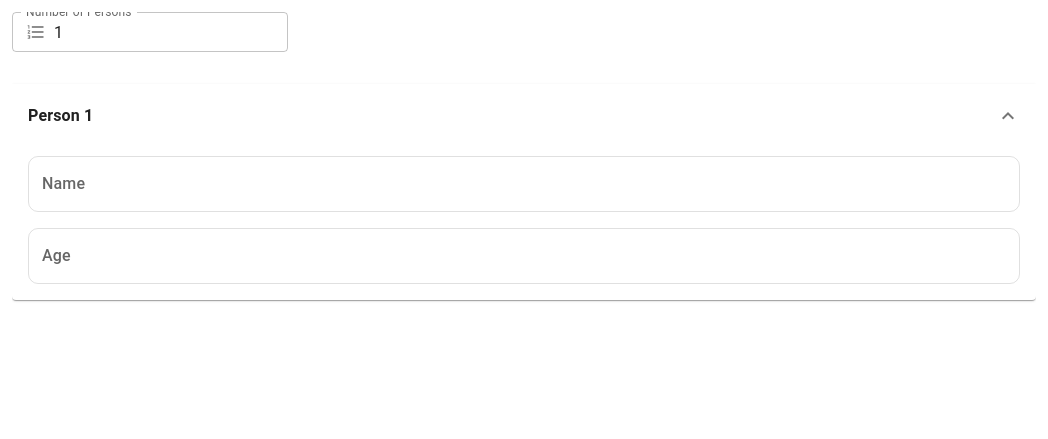
Test: FormRepeater › adds groups when count input is increased
Replace the text in the number field labelled "Number of Persons" with "3" at (171, 32), box [54,12,288,52]
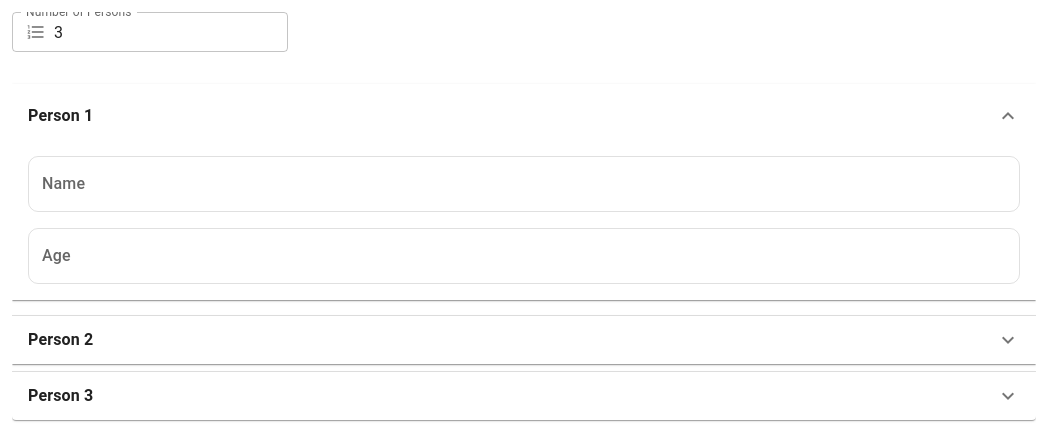
Expected: the text "Person 3" is shown, [28,384,93,408]
